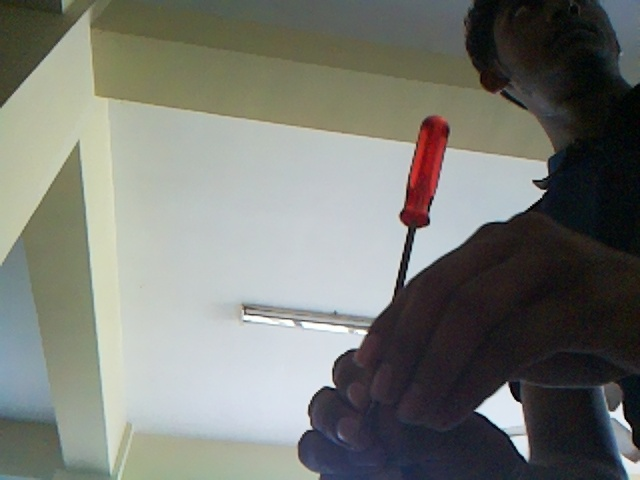redskrew: (389, 113, 463, 290)
